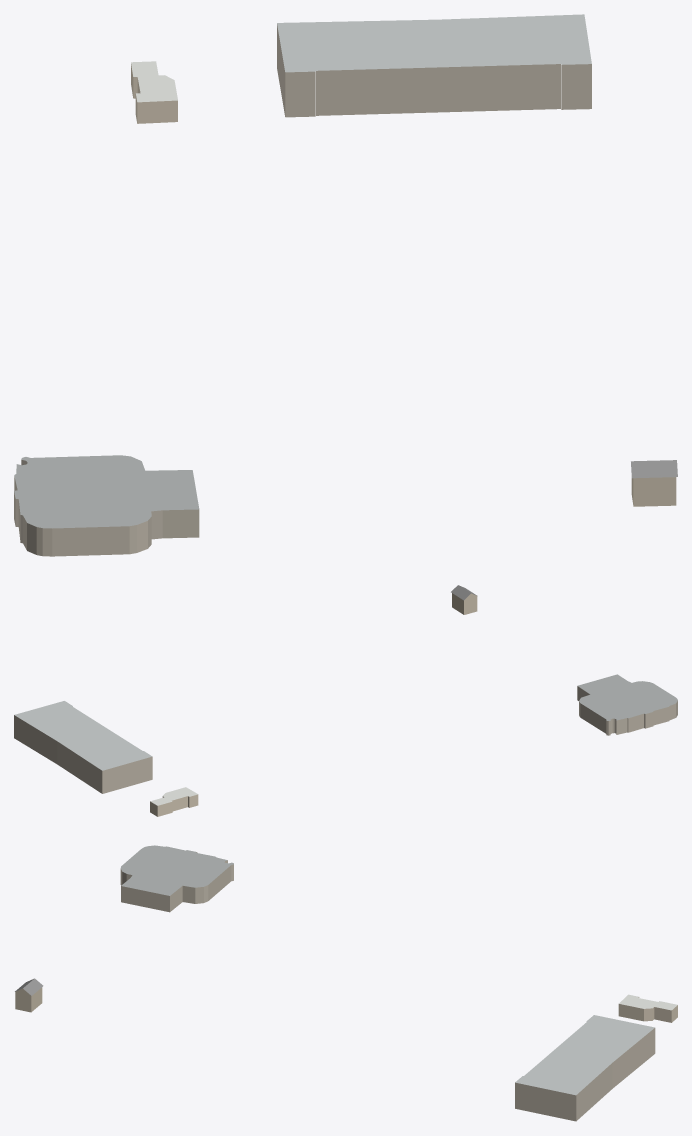
The picture shows the model from 3 angles, top to bottom: view 1: azimuth 30°, elevation 25°; view 2: azimuth 150°, elevation 25°; view 3: azimuth 270°, elevation 25°; orthographic projection. The views are drawn at different scales.
Visible parts, largest first — view 1: tuile; view 2: tuile; view 3: tuile.
Part boxes in pixels (bbox=[...]): tuile: bbox=[14, 14, 677, 556]; tuile: bbox=[14, 585, 677, 816]; tuile: bbox=[15, 845, 677, 1121].
Bounding box in the file's own units: 218 × 10.54 × 234.
